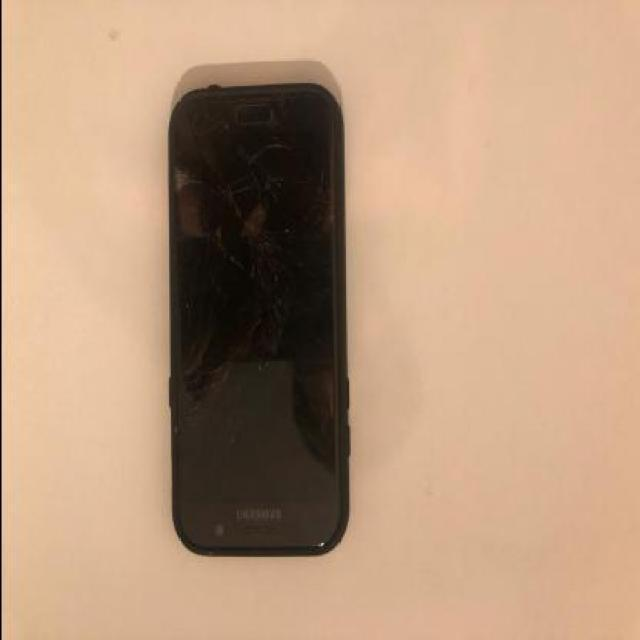phone: (168, 87, 345, 559)
